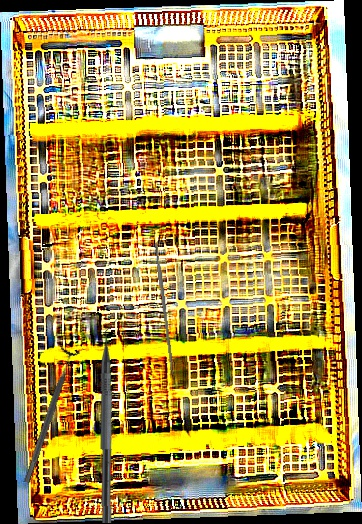Chopper: (98, 316, 126, 524)
Fixation Ring: (15, 344, 82, 487)
Scalpel Handle: (153, 242, 176, 375)
